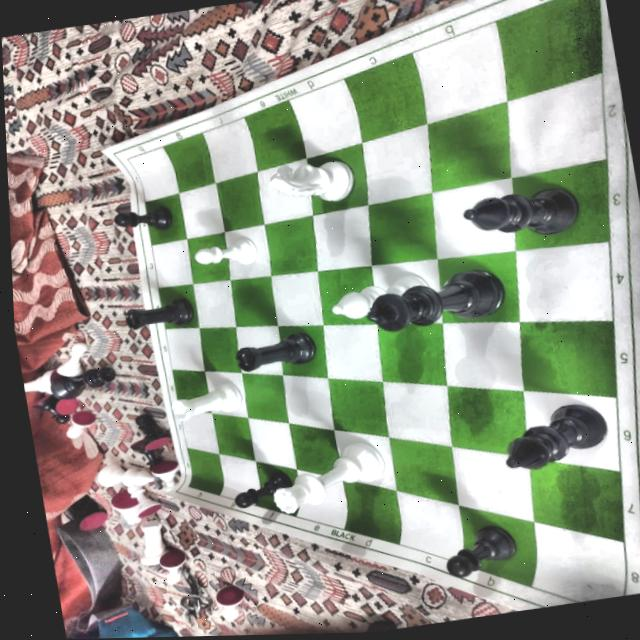BlackBishop: (495, 398, 611, 473), (457, 182, 584, 247)
BlackPawn: (438, 520, 521, 579), (231, 468, 293, 508), (110, 201, 174, 238)
BlackRook: (230, 329, 318, 375), (122, 298, 195, 333)
WhiteBishop: (324, 273, 432, 323)
WhiteKing: (359, 265, 509, 335)
WhiteKnight: (263, 155, 359, 210)
WhitePawn: (190, 237, 257, 273)
WhiteQueen: (264, 436, 391, 517)
WhiteRook: (167, 381, 242, 423)
